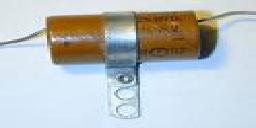Electrolytic-Capacitor: (20, 3, 232, 120)
